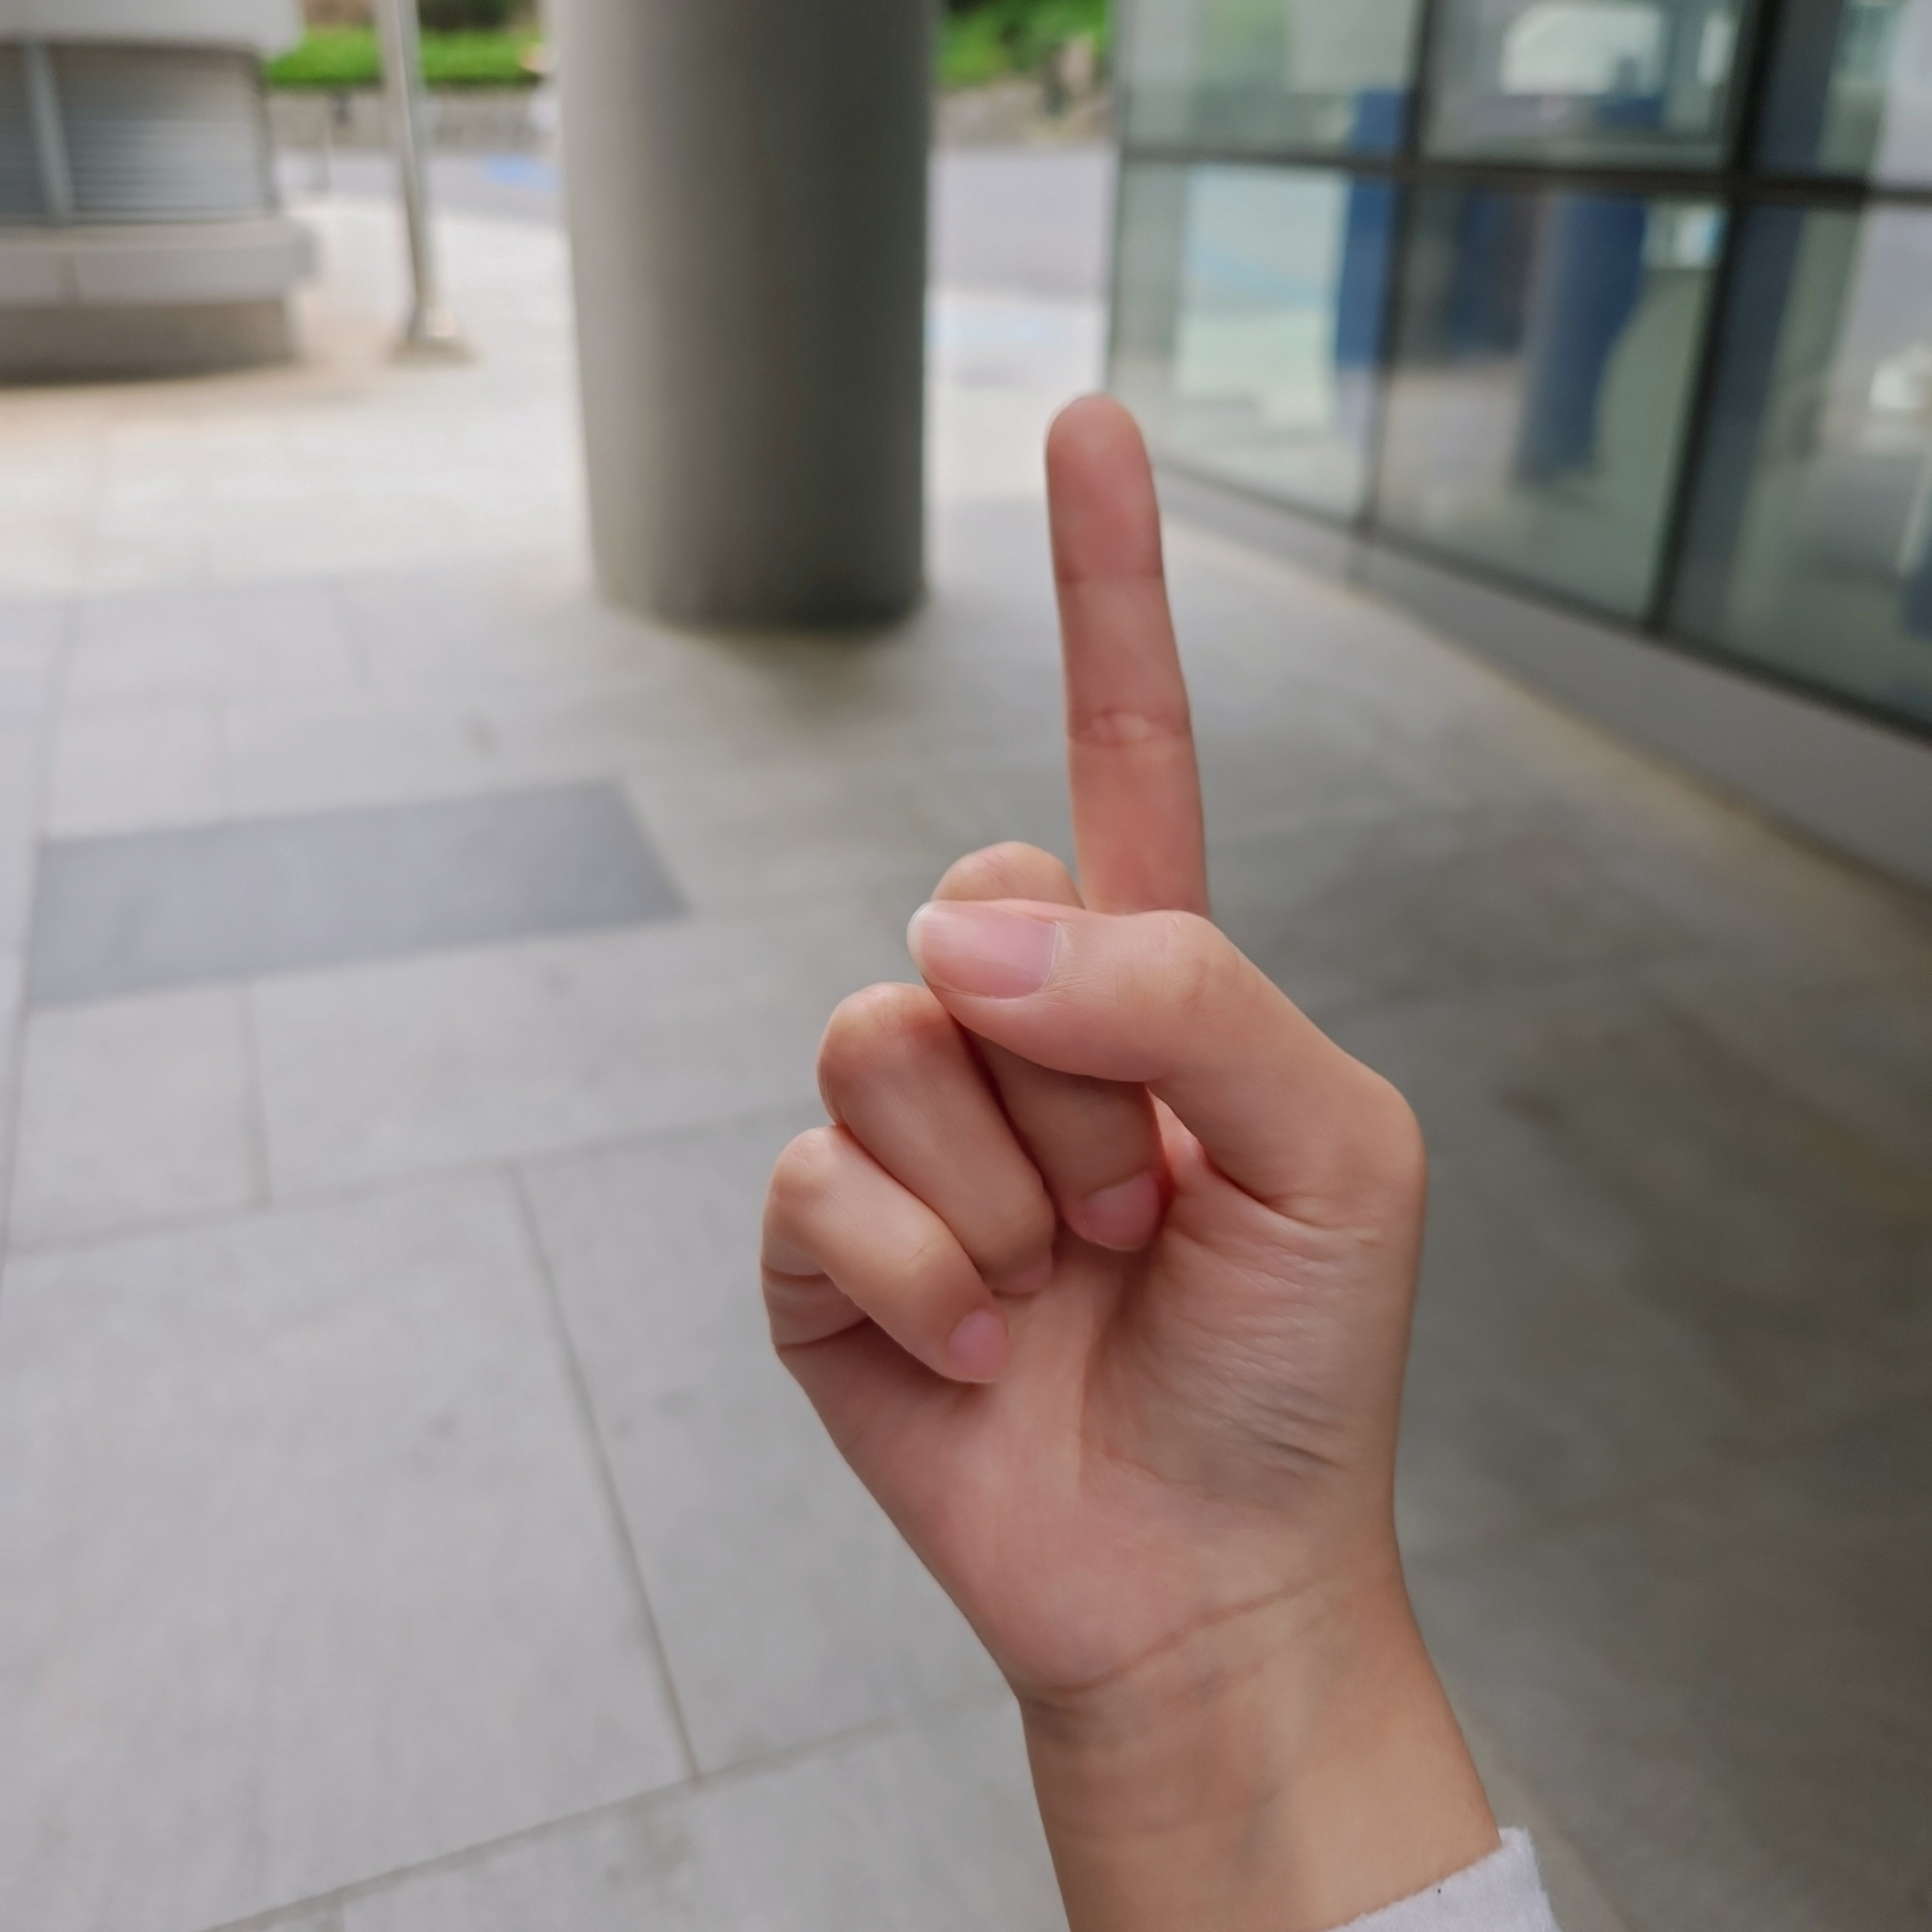what: (753, 384, 1431, 1677)
